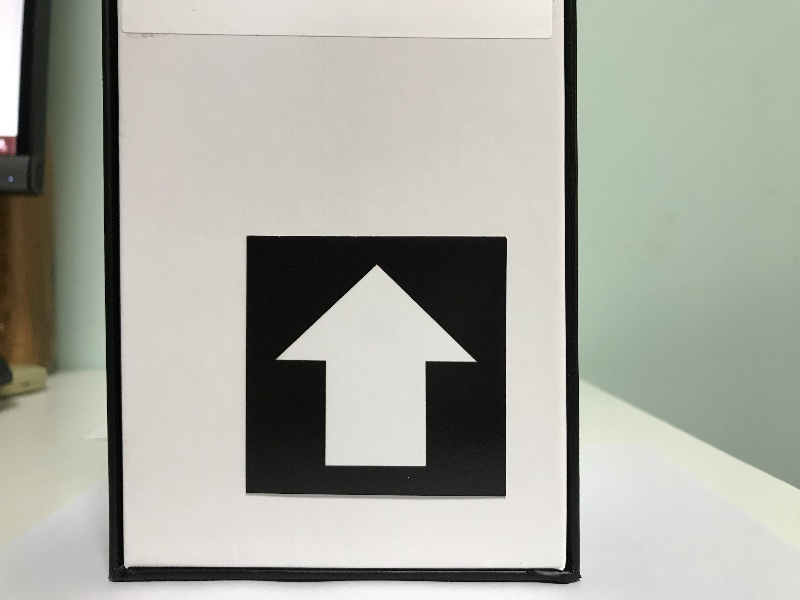UA-1: (251, 239, 503, 493)
